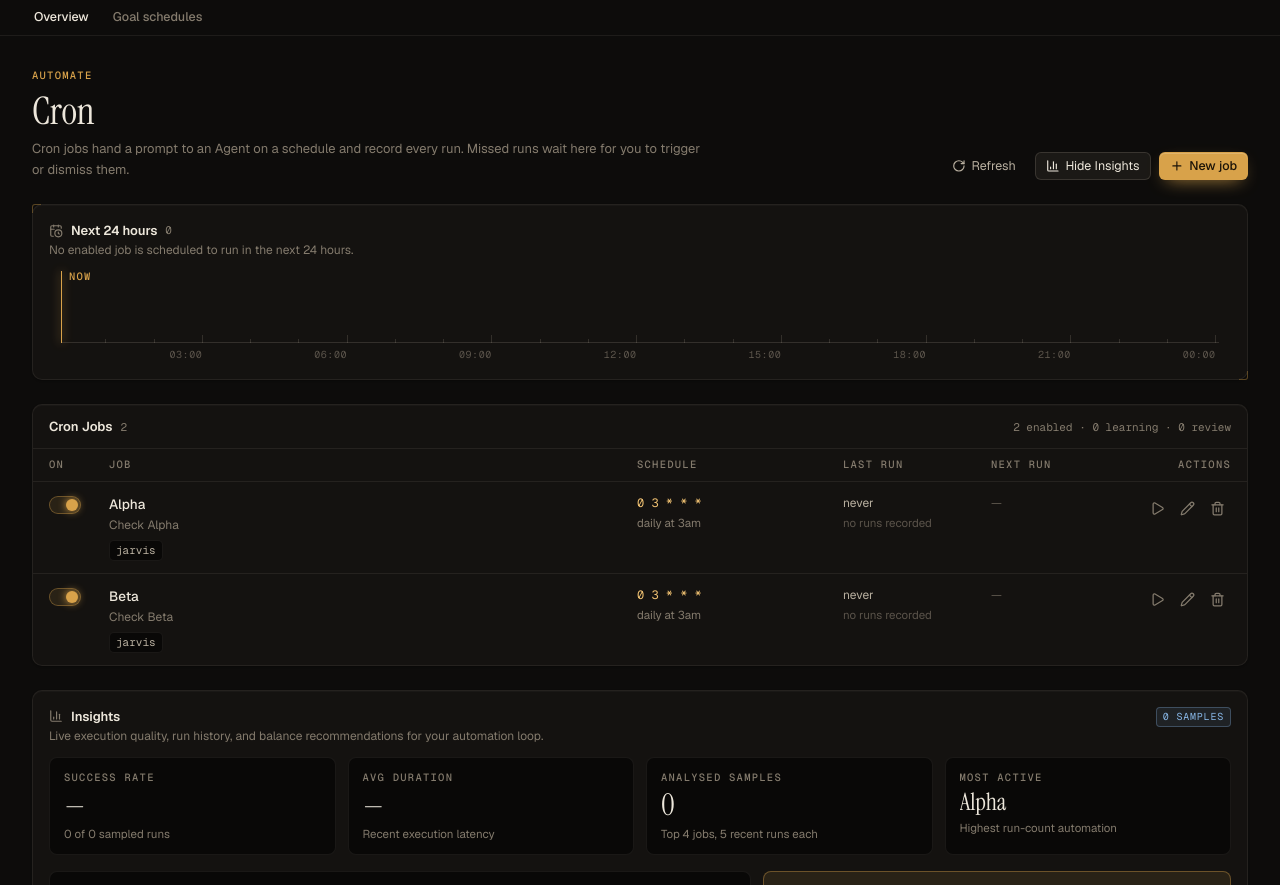
Cron operational mutation coordination › asks before deleting and writes nothing when the confirmation is cancelled
The image size is (1280, 885).
Expected: the 1st text "Alpha" is shown, [109,494,145,514]
Click the button named "Delete Alpha" at (1217, 508), box [1203,494,1231,522]
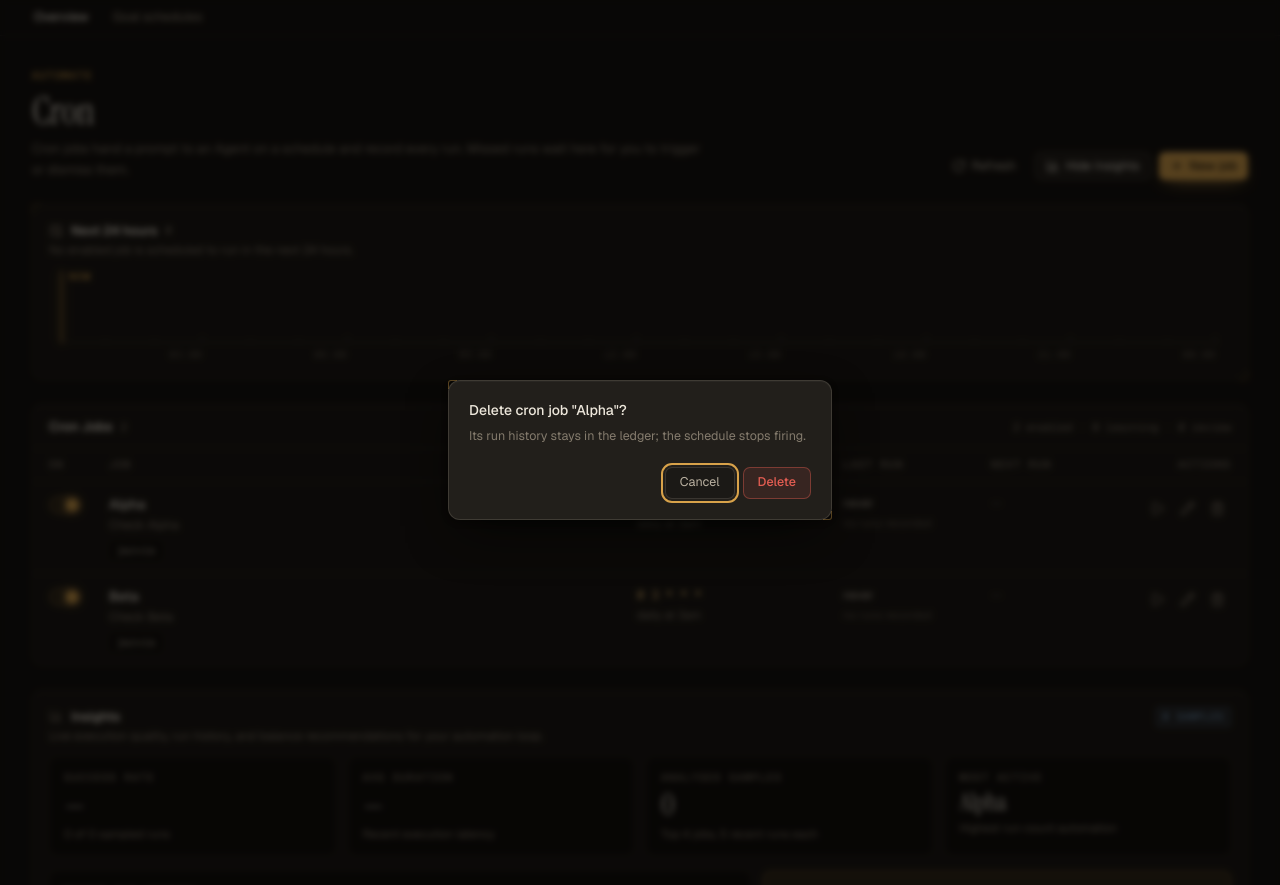
Click the button "Cancel" at (700, 483), box [665,467,734,499]
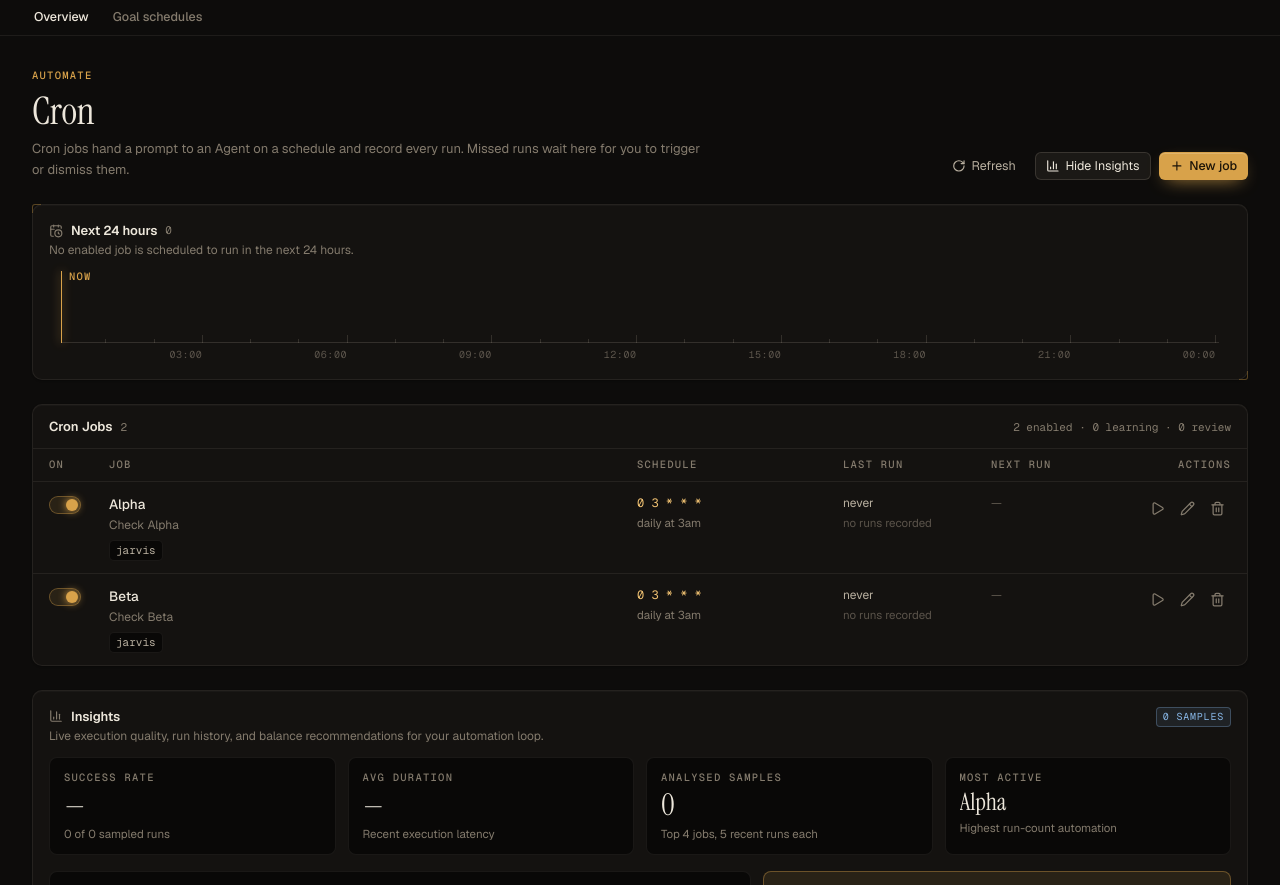
Expected: the text "Delete cron job \"Alpha\"?" is gone
